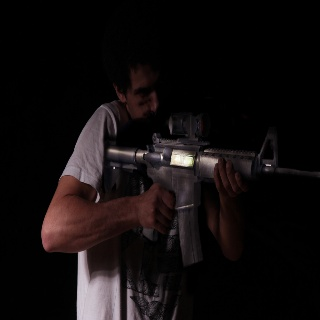rifle: (103, 108, 320, 268)
